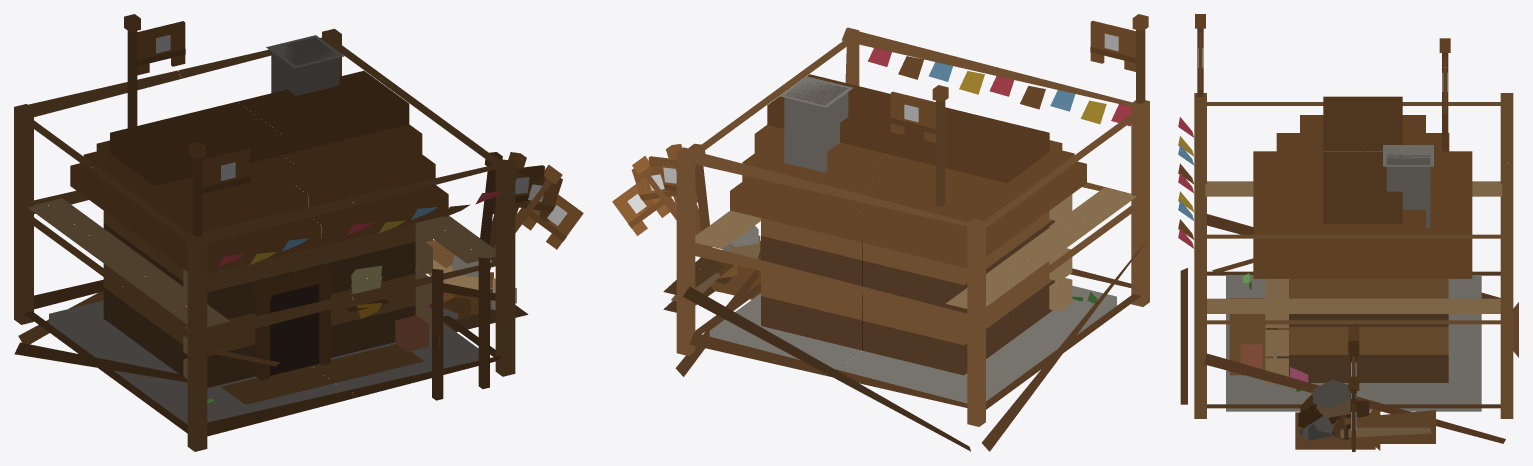
File: bear-home_lod1.glb
3 views of the same model, side by side, from view 1: azimuth 30°, elevation 25°; view 2: azimuth 150°, elevation 25°; view 3: azimuth 270°, elevation 25° (orthographic). The views are drawn at different scales.
Visible parts, largest first — view 1: built-mesh, scaffold-mesh, dismantle-75-mesh, dismantle-25-mesh, banner, scaffold-banner, dismantle-50-mesh, dismantle-25-banner, flag-pole, scaffold-flag-pole, dismantle-50-banner, dismantle-75-banner (+2 smaller); view 2: scaffold-mesh, built-mesh, dismantle-75-mesh, dismantle-25-mesh, banner, scaffold-banner, dismantle-25-banner, flag-pole, scaffold-flag-pole, dismantle-50-banner, dismantle-50-mesh, dismantle-75-banner (+2 smaller); view 3: built-mesh, scaffold-mesh, dismantle-75-mesh, dismantle-25-mesh, dismantle-50-mesh, flag-pole, scaffold-flag-pole.
Part boxes in pixels (left/top/right/bottom): built-mesh: left=49, top=35, right=448, bottom=420; scaffold-mesh: left=14, top=28, right=515, bottom=451; dismantle-75-mesh: left=49, top=194, right=528, bottom=424; dismantle-25-mesh: left=49, top=255, right=495, bottom=424; banner: left=137, top=21, right=185, bottom=75; scaffold-banner: left=202, top=148, right=250, bottom=202; dismantle-50-mesh: left=182, top=271, right=516, bottom=380; dismantle-25-banner: left=522, top=189, right=583, bottom=249; flag-pole: left=124, top=14, right=140, bottom=128; scaffold-flag-pole: left=189, top=141, right=205, bottom=236; dismantle-50-banner: left=515, top=173, right=562, bottom=221; dismantle-75-banner: left=493, top=165, right=544, bottom=214; scaffold-mesh: left=663, top=27, right=1149, bottom=451; built-mesh: left=730, top=74, right=1116, bottom=341; dismantle-75-mesh: left=710, top=162, right=1116, bottom=401; dismantle-25-mesh: left=709, top=225, right=1116, bottom=403; banner: left=890, top=91, right=935, bottom=142; scaffold-banner: left=1090, top=20, right=1135, bottom=71; dismantle-25-banner: left=612, top=178, right=669, bottom=235; flag-pole: left=932, top=85, right=948, bottom=206; scaffold-flag-pole: left=1132, top=14, right=1148, bottom=104; dismantle-50-banner: left=631, top=164, right=676, bottom=209; dismantle-50-mesh: left=710, top=213, right=1097, bottom=303; dismantle-75-banner: left=648, top=156, right=697, bottom=202; built-mesh: left=1243, top=96, right=1472, bottom=391; scaffold-mesh: left=1178, top=93, right=1518, bottom=443; dismantle-75-mesh: left=1226, top=275, right=1481, bottom=449; dismantle-25-mesh: left=1226, top=275, right=1480, bottom=440; dismantle-50-mesh: left=1240, top=273, right=1380, bottom=450; flag-pole: left=1439, top=38, right=1450, bottom=151; scaffold-flag-pole: left=1195, top=14, right=1205, bottom=96.
Bounding box in the file's own units: 2.7 × 1.82 × 1.87.
